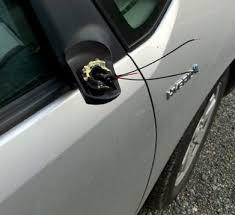Sidemirror-Damage: (59, 22, 192, 110)
